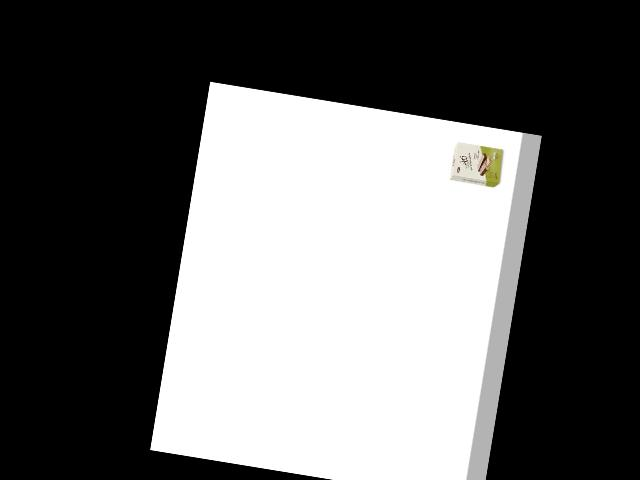chocolate: (447, 137, 507, 191)
